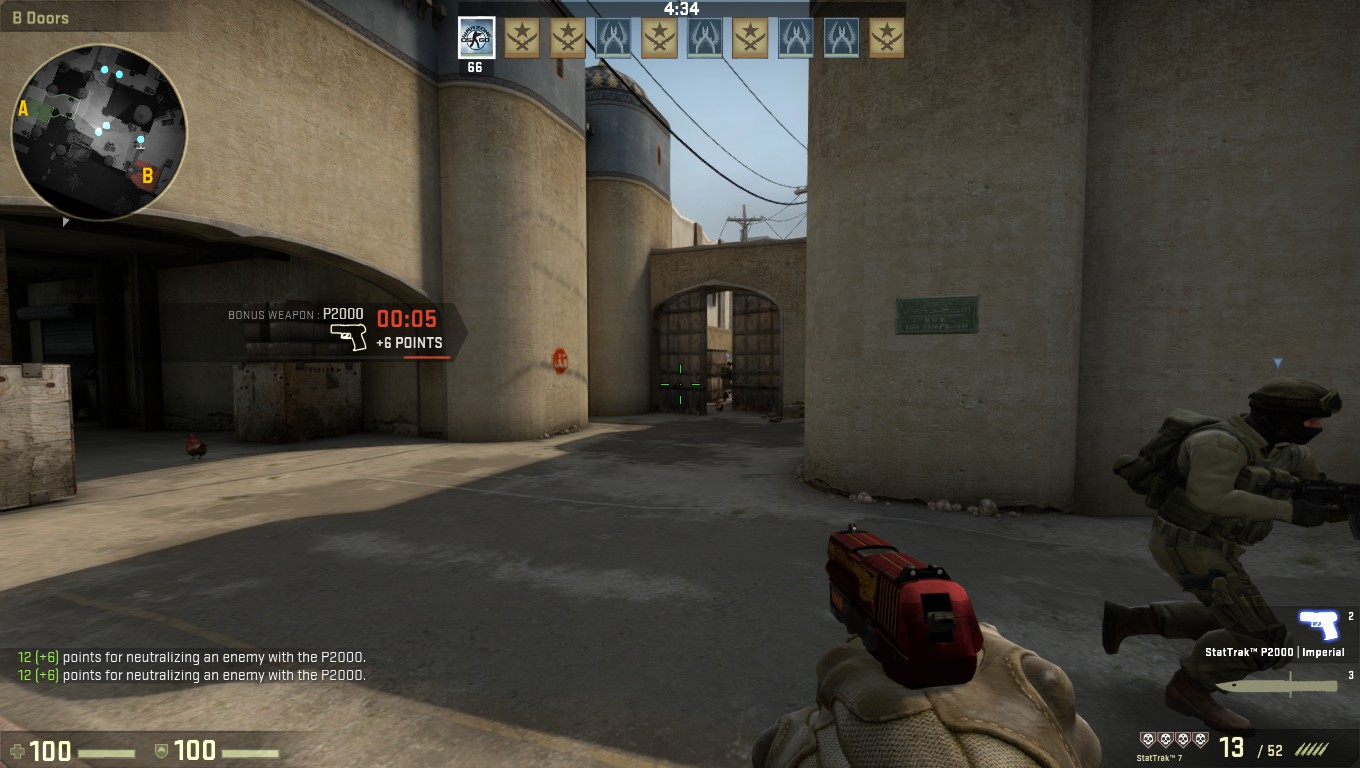c: (1109, 373, 1360, 749)
ch: (1228, 367, 1352, 453)
